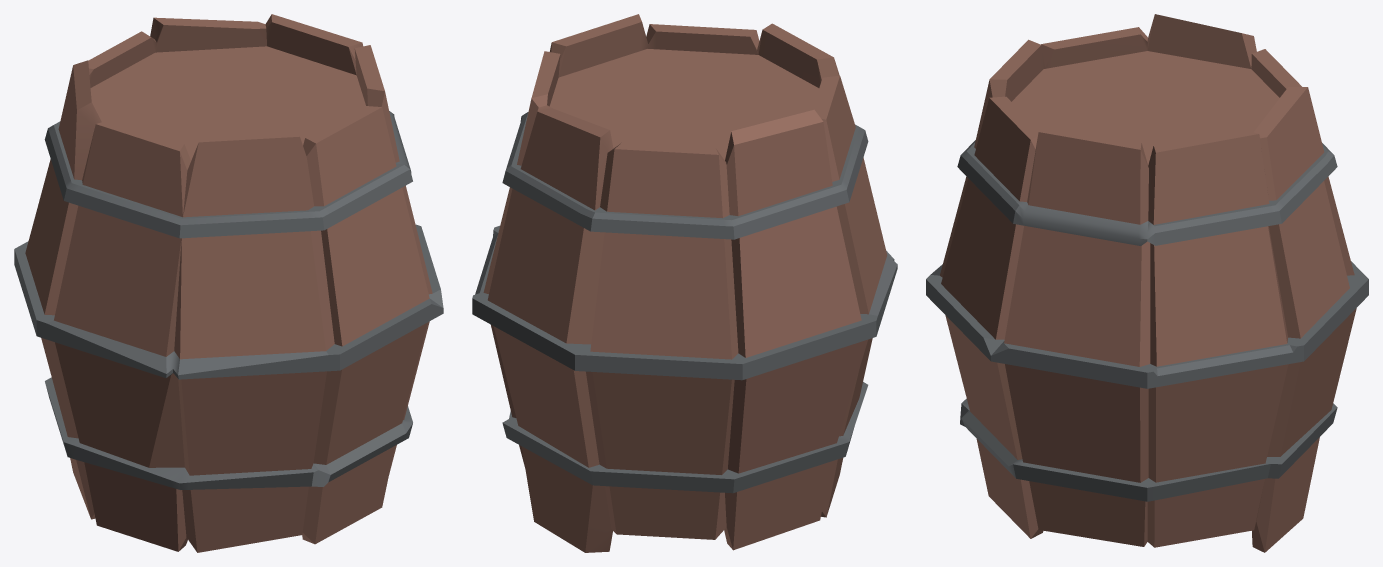
Rendered from SM_Barrel_01.fbx.
3 views of the same model, side by side, from view 1: azimuth 30°, elevation 25°; view 2: azimuth 150°, elevation 25°; view 3: azimuth 270°, elevation 25° (orthographic).
Parts seen in each view (by area): view 1: Barrel_01; view 2: Barrel_01; view 3: Barrel_01.
Boxes of the visible parts, box(x1,y1,x2,y2) form: Barrel_01: box(14, 14, 443, 552); Barrel_01: box(472, 14, 897, 552); Barrel_01: box(926, 14, 1368, 552).
Bounding box in the file's own units: 56.68 × 60.58 × 56.68.
